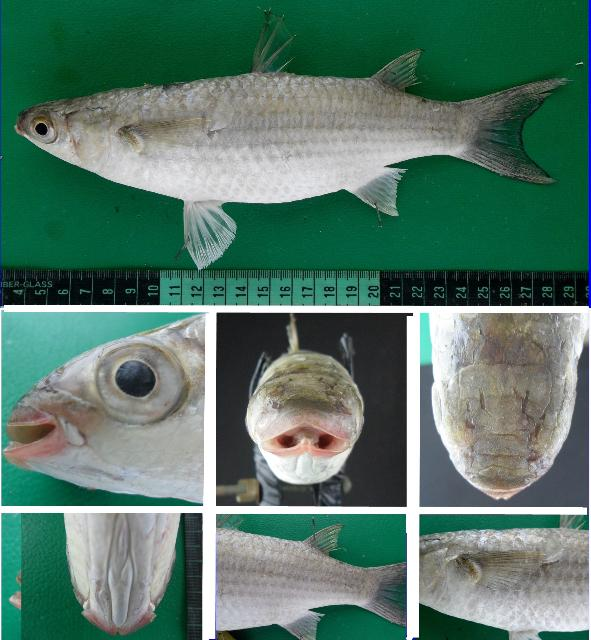Mulut: (250, 415, 356, 473), (1, 389, 62, 477), (6, 98, 34, 146)
Sirip Anal: (344, 152, 418, 235), (264, 594, 344, 640)
Sirip Dada: (454, 536, 554, 606), (121, 104, 219, 162)
Sirip Ekor: (472, 68, 580, 194)
Sirip Perut: (166, 192, 252, 268)
Sirip Punggung: (235, 1, 441, 98), (300, 518, 356, 562)
